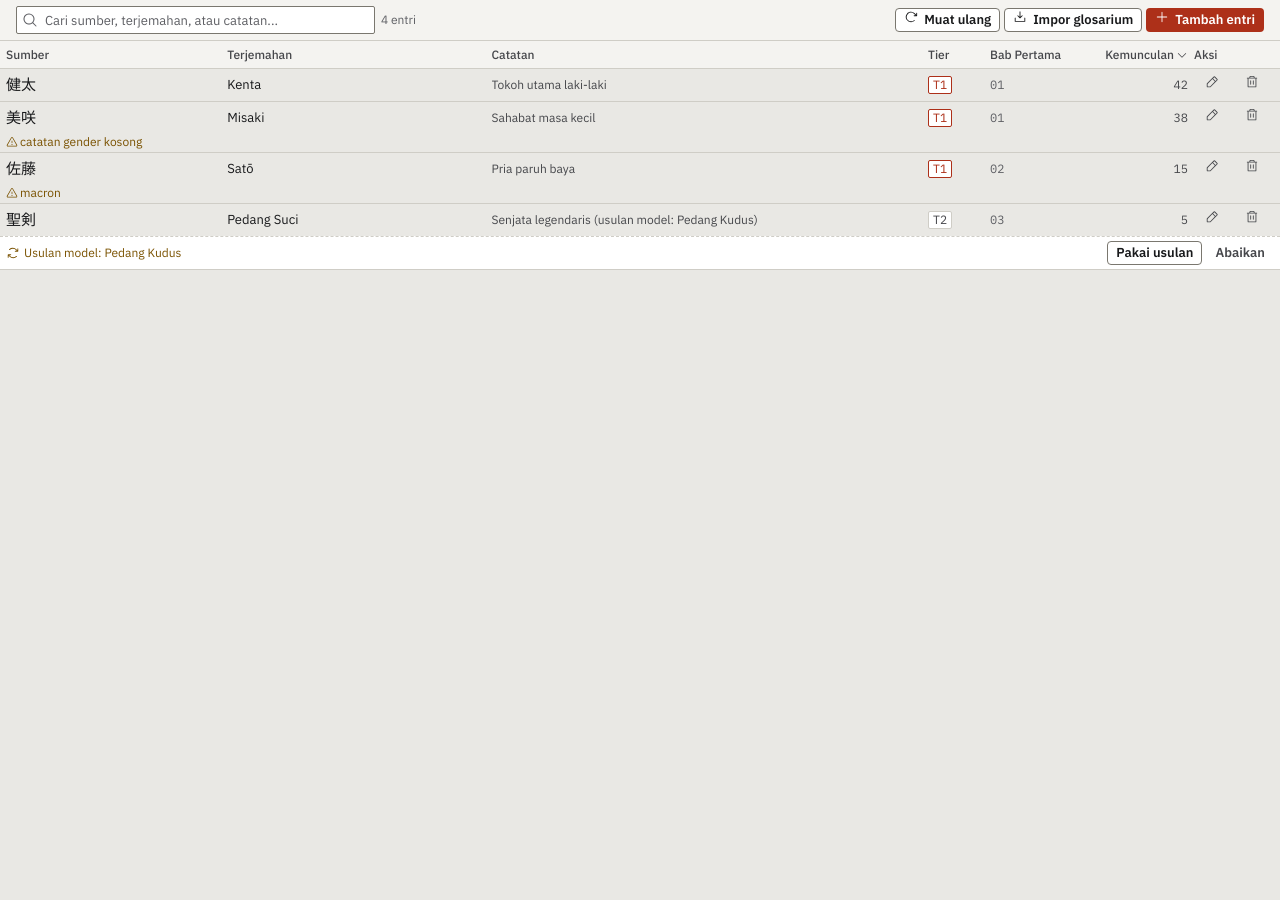
it: GlossaryTab › renders import button and opens GlossaryImportDialog
Expected: the text "Impor glosarium" is shown, [1033,10,1133,30]
Click the button "Impor glosarium" at (1073, 20), box [1004,8,1142,32]
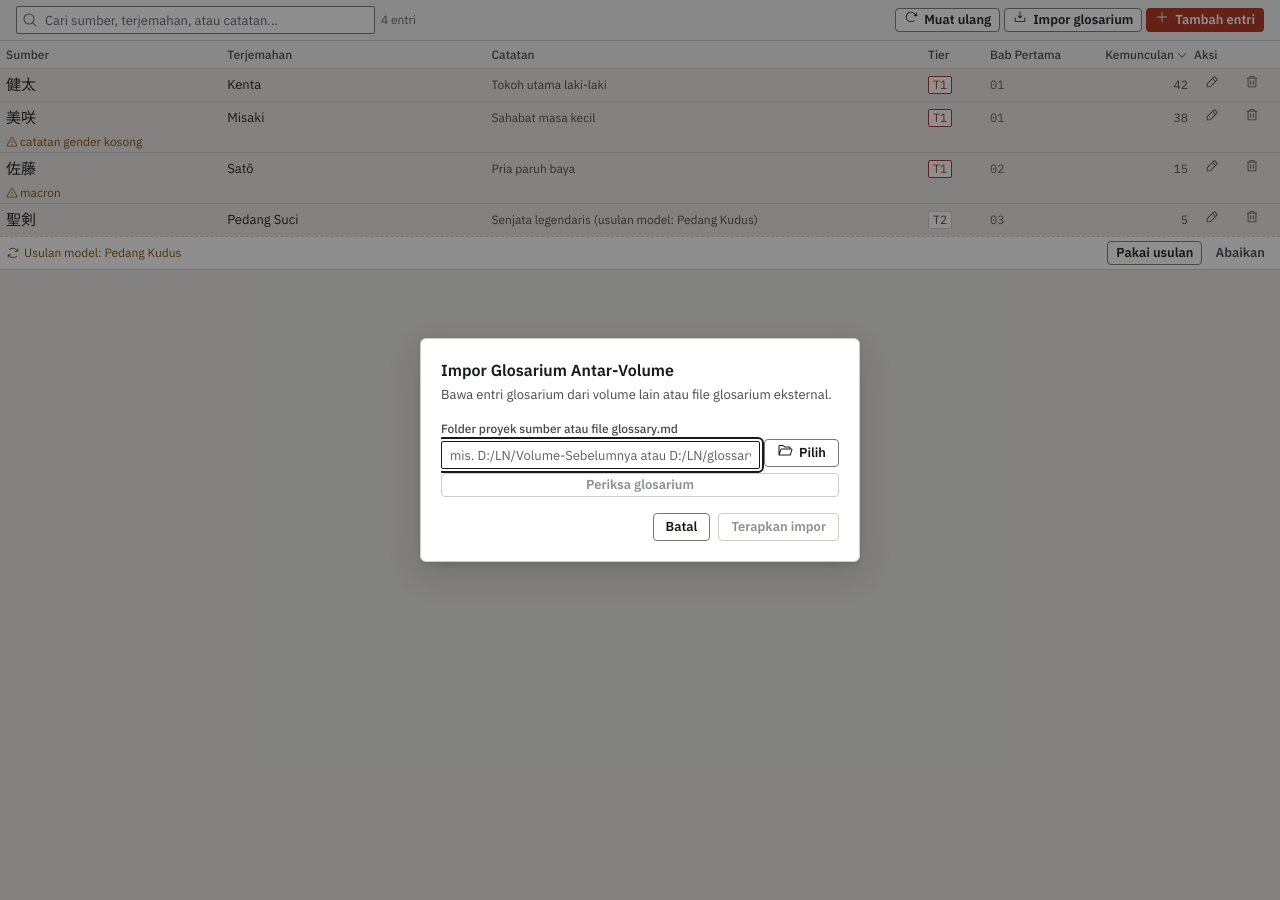
Result: the heading "Impor Glosarium Antar-Volume" is shown at [441,360,674,380]
